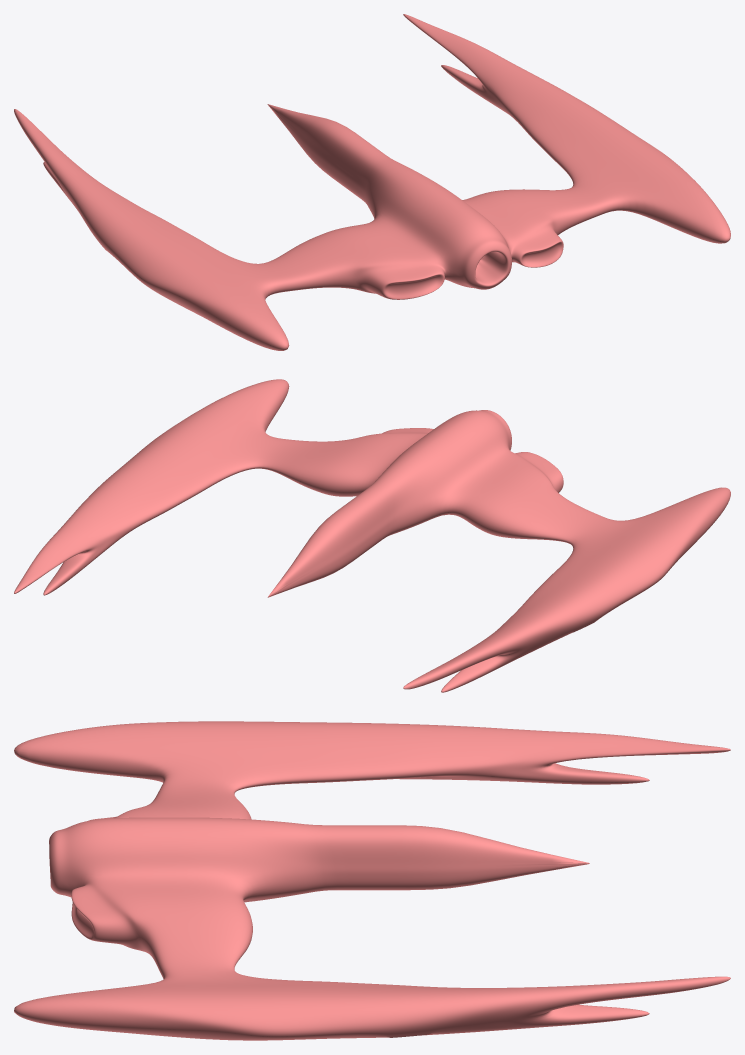
The model's file is Navette.FBX.
3 renders of one model, top to bottom at view 1: azimuth 30°, elevation 25°; view 2: azimuth 150°, elevation 25°; view 3: azimuth 270°, elevation 25°, orthographic. The views are drawn at different scales.
Parts seen in each view (by area): view 1: Cylinder006; view 2: Cylinder006; view 3: Cylinder006.
Boxes of the visible parts, x1,y1,x2,y2 form: Cylinder006: (14, 14, 730, 350); Cylinder006: (14, 379, 730, 692); Cylinder006: (14, 721, 730, 1040).
Size of the model in its own units: 221 by 28.06 by 221.
